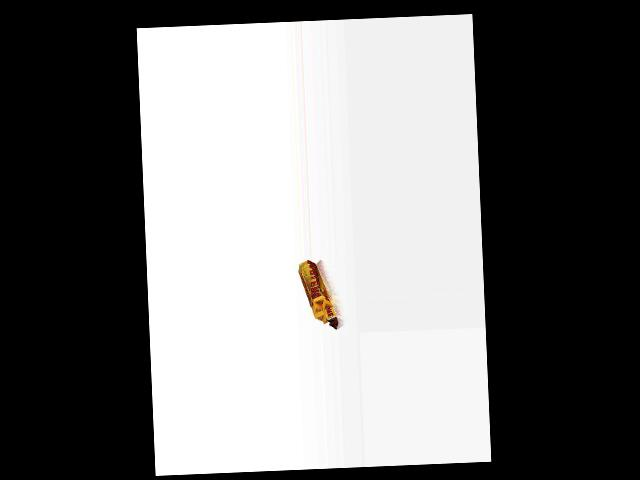chocolate: (297, 259, 341, 331)
